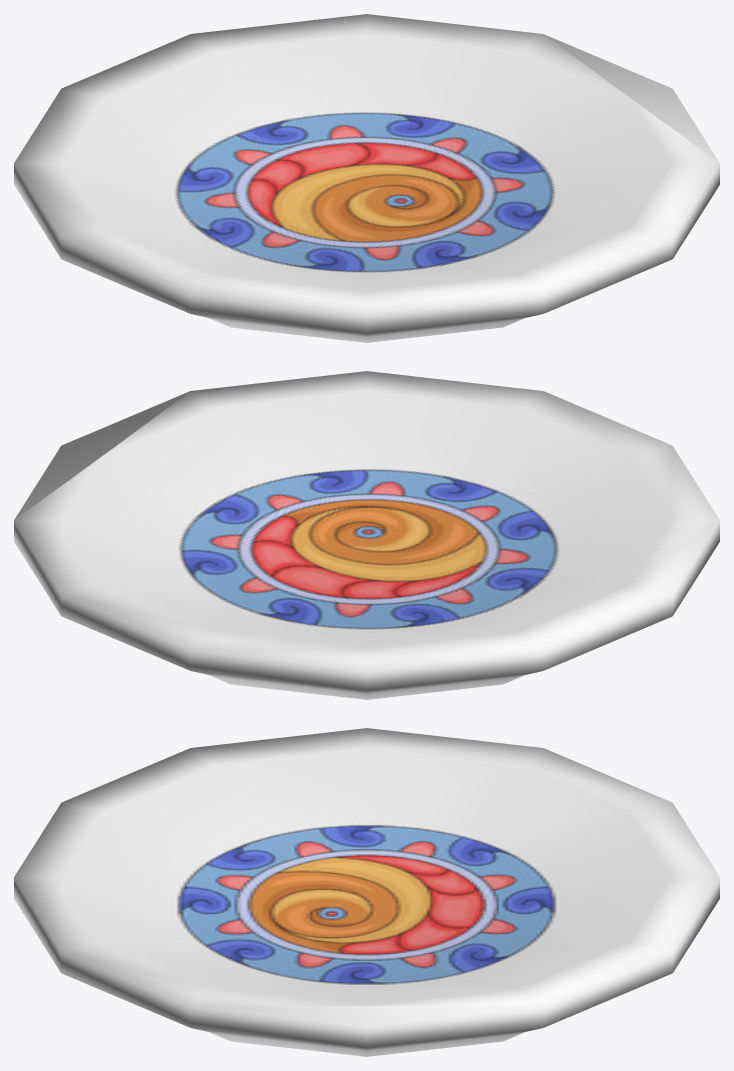
File: plate.glb
3 views of the same model, one above another, from view 1: azimuth 30°, elevation 25°; view 2: azimuth 150°, elevation 25°; view 3: azimuth 270°, elevation 25° (orthographic).
Parts seen in each view (by area): view 1: blat#$conf|0|PR41RK#$top|1.040_45; view 2: blat#$conf|0|PR41RK#$top|1.040_45; view 3: blat#$conf|0|PR41RK#$top|1.040_45.
Boxes of the visible parts, x1,y1,x2,y2 form: blat#$conf|0|PR41RK#$top|1.040_45: (14,14,719,342); blat#$conf|0|PR41RK#$top|1.040_45: (14,371,719,699); blat#$conf|0|PR41RK#$top|1.040_45: (14,728,719,1056).
Bounding box in the file's own units: 0.8918 × 0.09 × 0.8918.
Materials: 1 (1 with a texture image).
